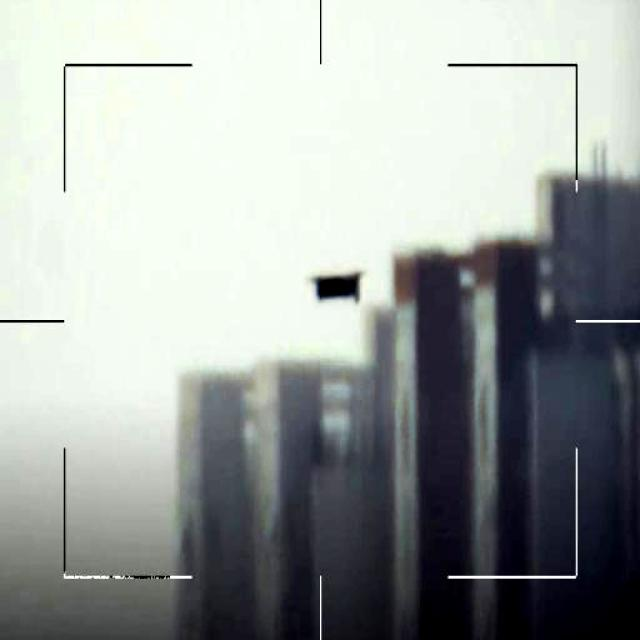bird: (318, 272, 368, 309)
